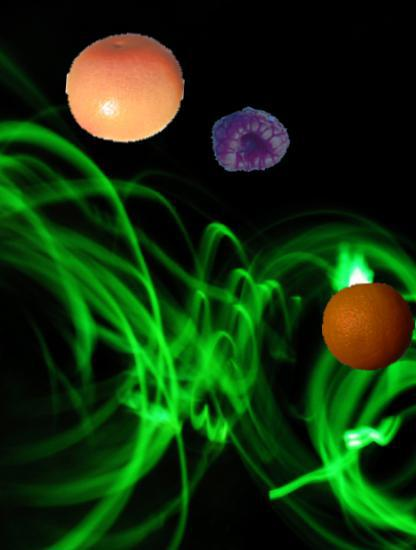Grapefruit: (66, 28, 185, 147)
Orange: (322, 281, 415, 374)
Raspberry: (210, 101, 291, 182)
